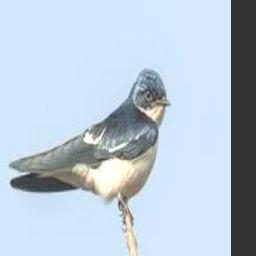Swallow: (9, 68, 170, 217)
